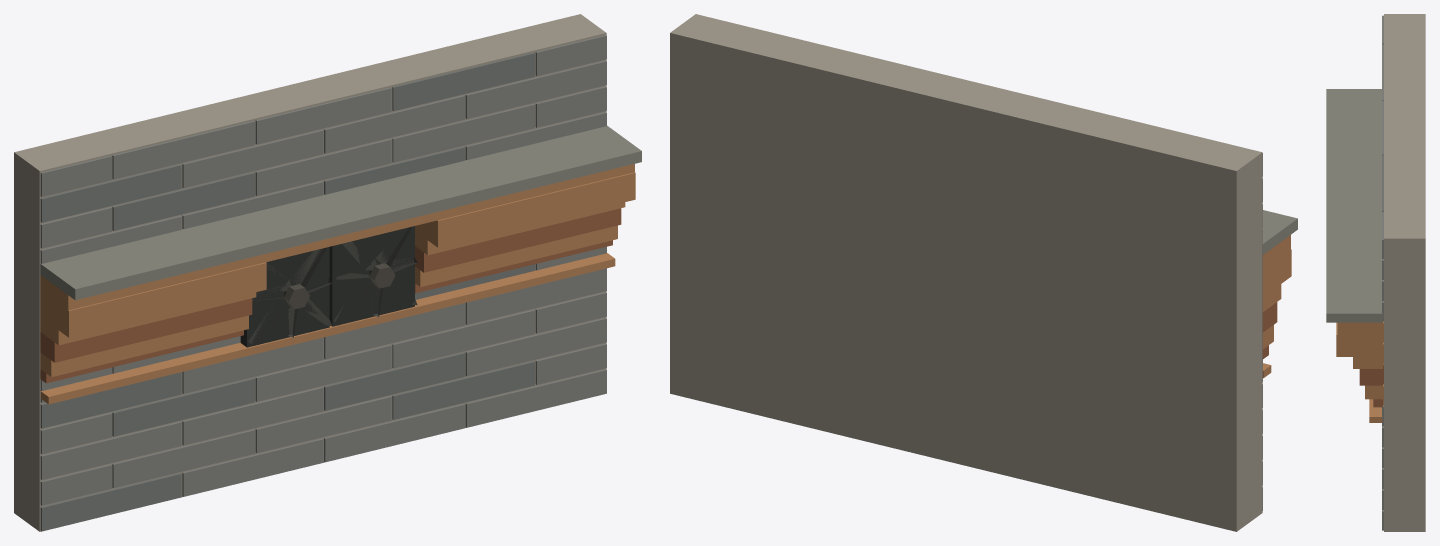
Rendered from changning-husi-warehouse-ribbed-iron-plates-lod.glb.
3 views of the same model, side by side, from view 1: azimuth 30°, elevation 25°; view 2: azimuth 150°, elevation 25°; view 3: azimuth 270°, elevation 25° (orthographic). The views are drawn at different scales.
Parts seen in each view (by area): view 1: 湖丝栈灰砖厂房放射纹铁板与砖腰线; view 2: 湖丝栈灰砖厂房放射纹铁板与砖腰线; view 3: 湖丝栈灰砖厂房放射纹铁板与砖腰线.
Boxes of the visible parts, bbox=[...] form: 湖丝栈灰砖厂房放射纹铁板与砖腰线: bbox=[14, 14, 641, 531]; 湖丝栈灰砖厂房放射纹铁板与砖腰线: bbox=[670, 14, 1297, 531]; 湖丝栈灰砖厂房放射纹铁板与砖腰线: bbox=[1326, 14, 1425, 531].
Size of the model in its own units: 1.66 by 1.01 by 0.311.
